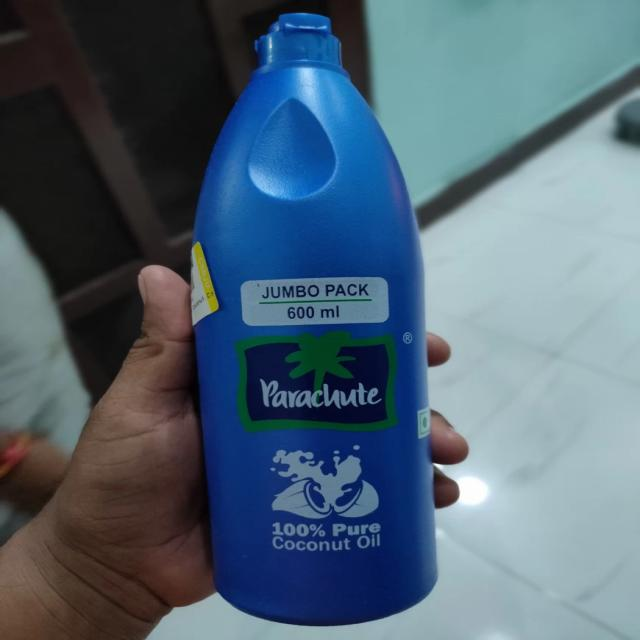parachute_oil: (185, 14, 448, 629)
